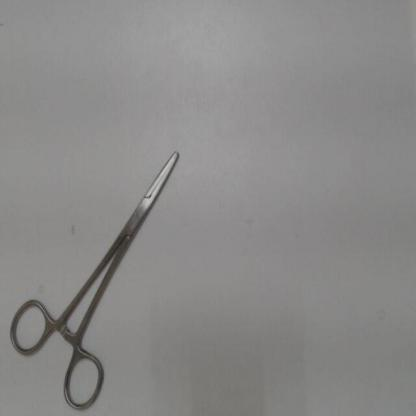Mayo Needle Holder: (7, 136, 191, 414)
